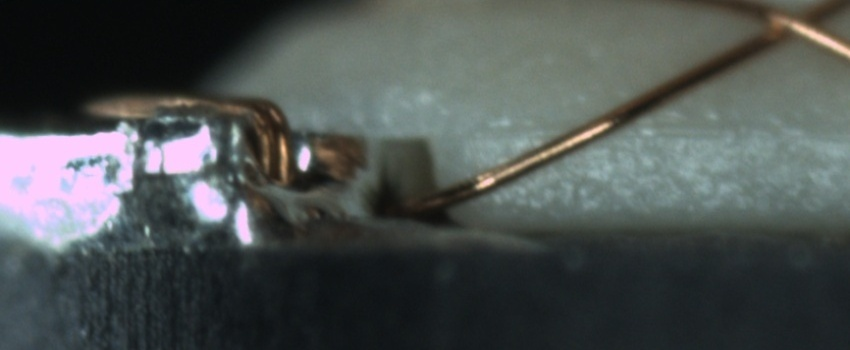CL: (749, 1, 844, 57)
DL: (477, 101, 849, 164)
TE: (78, 87, 296, 197)
